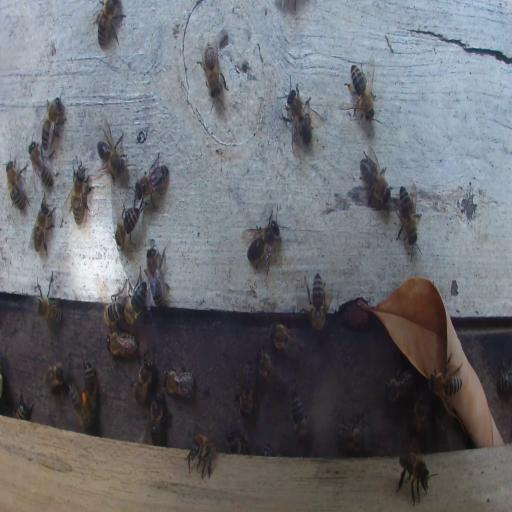bee: (395, 451, 434, 505), (343, 61, 376, 124), (135, 151, 169, 211), (244, 210, 282, 263), (359, 147, 392, 207), (283, 81, 312, 148), (96, 122, 126, 184), (67, 156, 93, 227), (301, 270, 331, 330), (92, 0, 126, 48), (396, 183, 422, 245), (198, 42, 224, 104), (145, 243, 170, 307), (30, 194, 56, 255), (122, 274, 152, 326), (40, 96, 64, 155), (187, 431, 216, 479), (254, 347, 286, 389), (336, 413, 368, 455), (35, 280, 63, 327), (382, 364, 414, 404), (268, 322, 302, 358), (28, 140, 53, 188), (6, 160, 28, 212), (115, 204, 139, 250), (68, 380, 90, 430), (132, 354, 153, 404), (84, 360, 100, 424), (163, 367, 196, 398), (238, 359, 254, 418), (290, 392, 308, 442), (106, 331, 137, 358), (148, 391, 164, 443), (430, 372, 462, 397), (42, 361, 66, 389), (104, 294, 124, 325), (412, 395, 427, 436), (226, 429, 250, 454), (499, 360, 511, 396), (15, 400, 31, 420)
